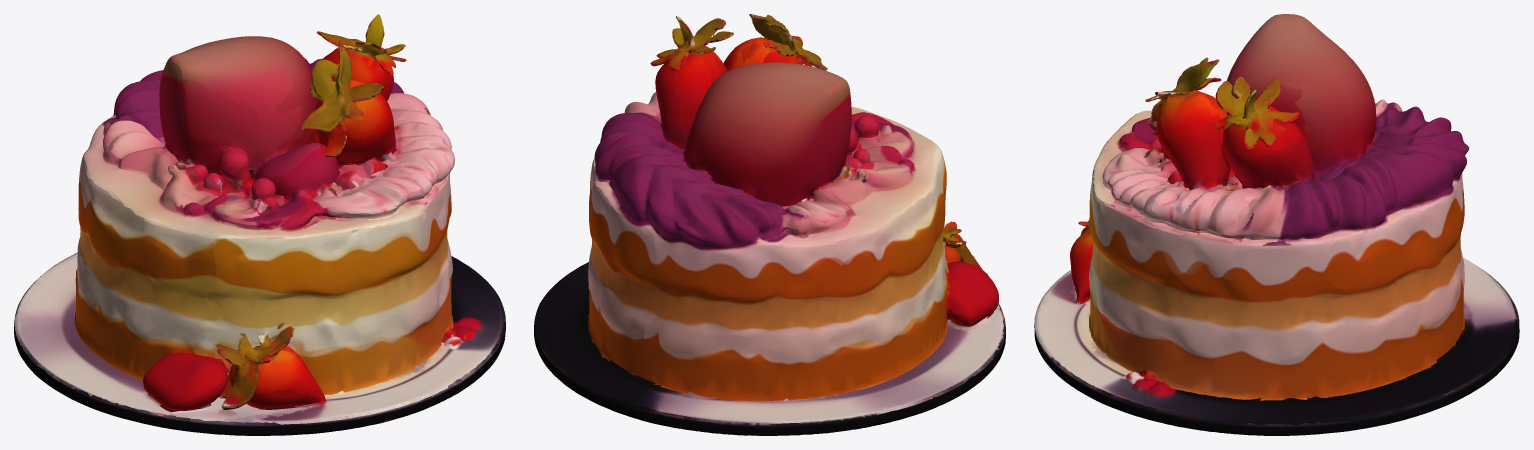
The model's file is supercake.fbx.
3 renders of one model, left to right at view 1: azimuth 30°, elevation 25°; view 2: azimuth 150°, elevation 25°; view 3: azimuth 270°, elevation 25°, orthographic. The views are drawn at different scales.
Visible parts, largest first — view 1: tmp67vi2h61.ply; view 2: tmp67vi2h61.ply; view 3: tmp67vi2h61.ply.
Part boxes in pixels (x1=…): tmp67vi2h61.ply: x1=14, y1=14, x2=505, y2=435; tmp67vi2h61.ply: x1=534, y1=14, x2=1005, y2=435; tmp67vi2h61.ply: x1=1034, y1=14, x2=1519, y2=435.
Bounding box in the file's own units: 199 × 135 × 199.
Materials: 1 (1 with a texture image).
